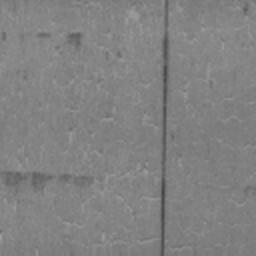Scratches: (160, 0, 170, 256)
